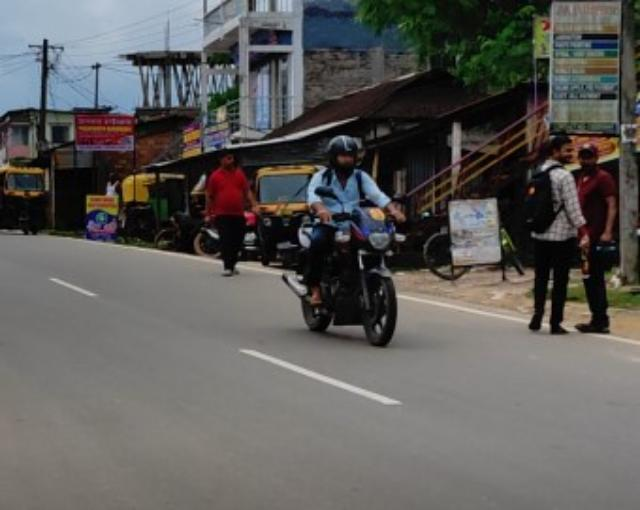licensePlate: (352, 245, 397, 260)
motorcycle: (284, 130, 413, 351)
withHelmet: (325, 134, 364, 177)
